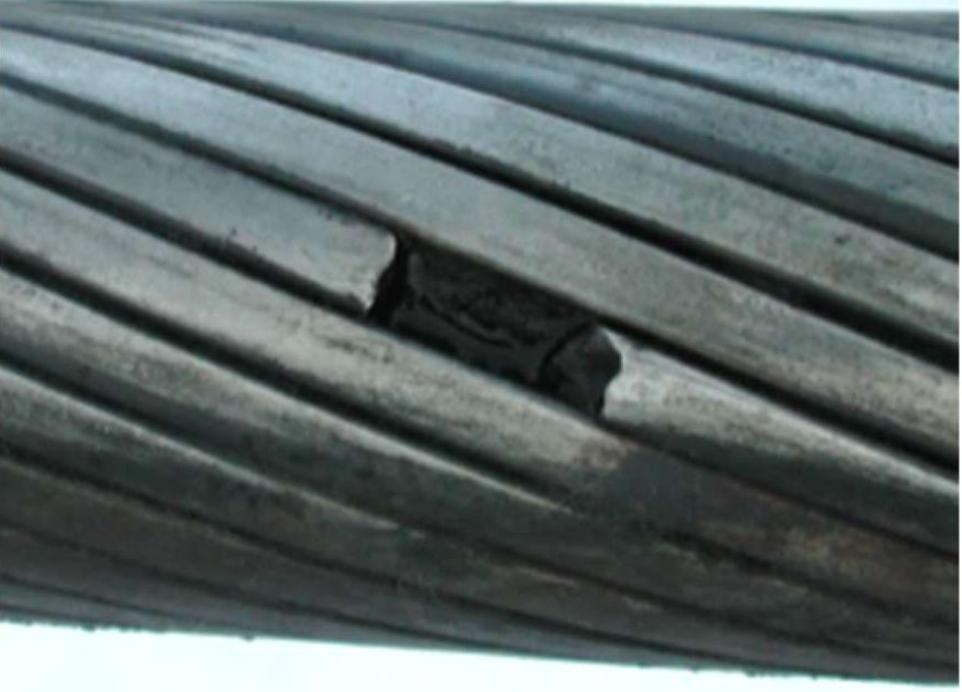break: (335, 198, 655, 453)
